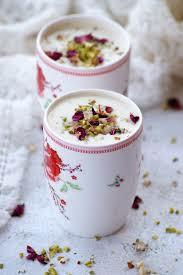Lassi: (47, 93, 140, 150), (44, 24, 127, 70)
